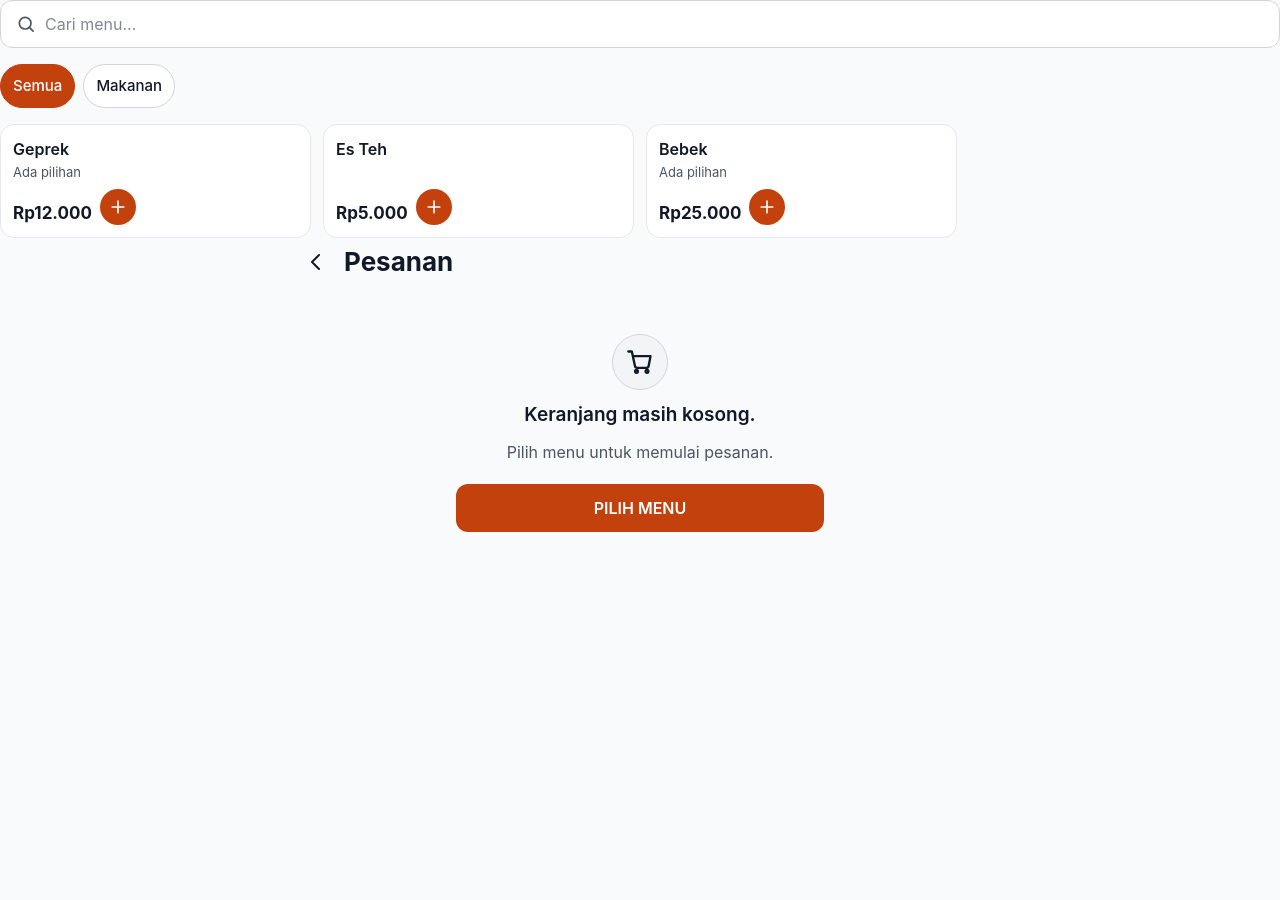
products with options on the cashier screen › keeps Tambah disabled until every required group has a choice, and says which ones
The image size is (1280, 900).
Click the button "Geprek Ada pilihan Rp12.000": [41, 149] box [0,124,311,238]
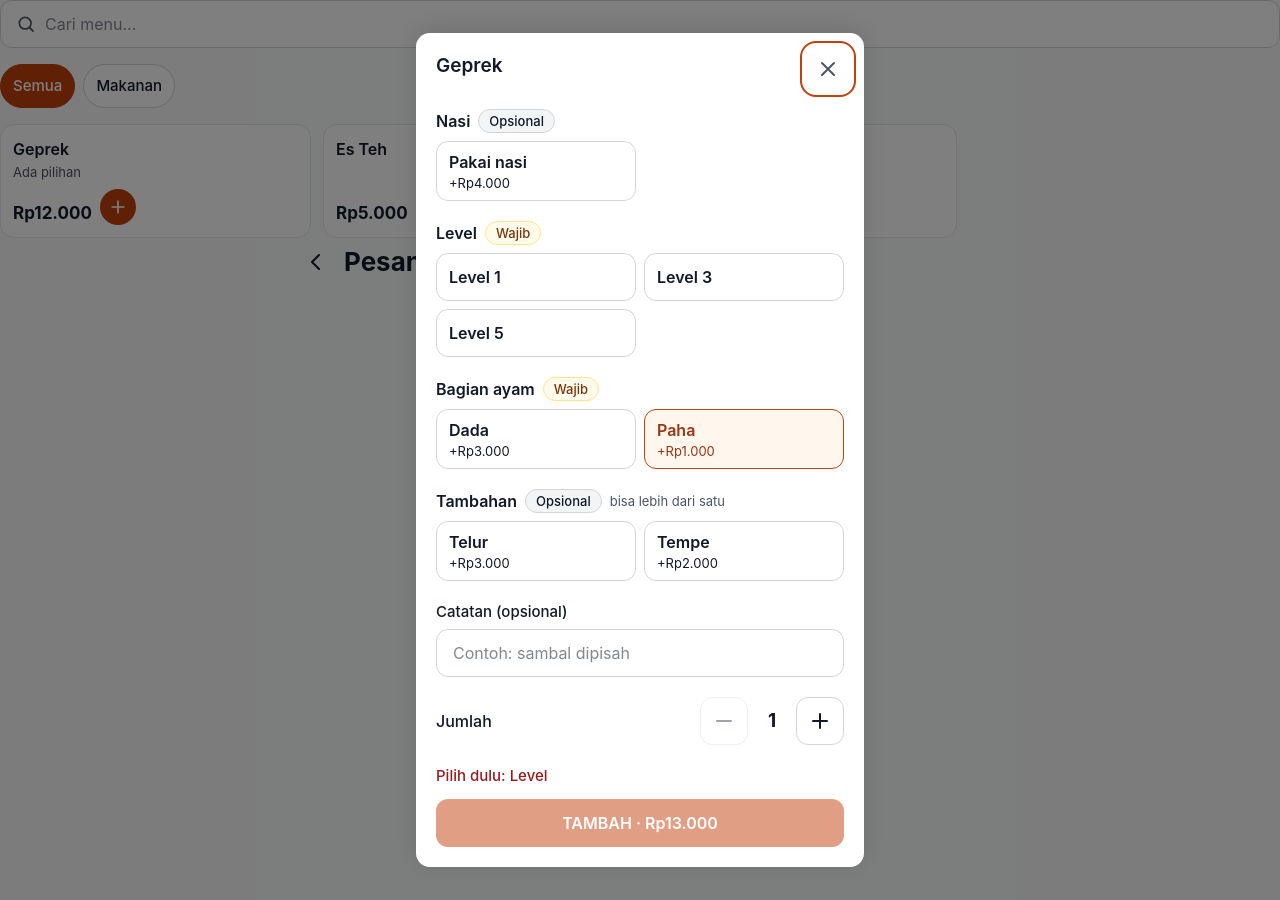
Expected: the button "TAMBAH · Rp13.000" is disabled, [436,799,844,847]
Expected: the text "Pilih dulu: Level" is shown, [436,766,548,785]
Click the button "Level 3": [744, 277] box [644,253,844,301]
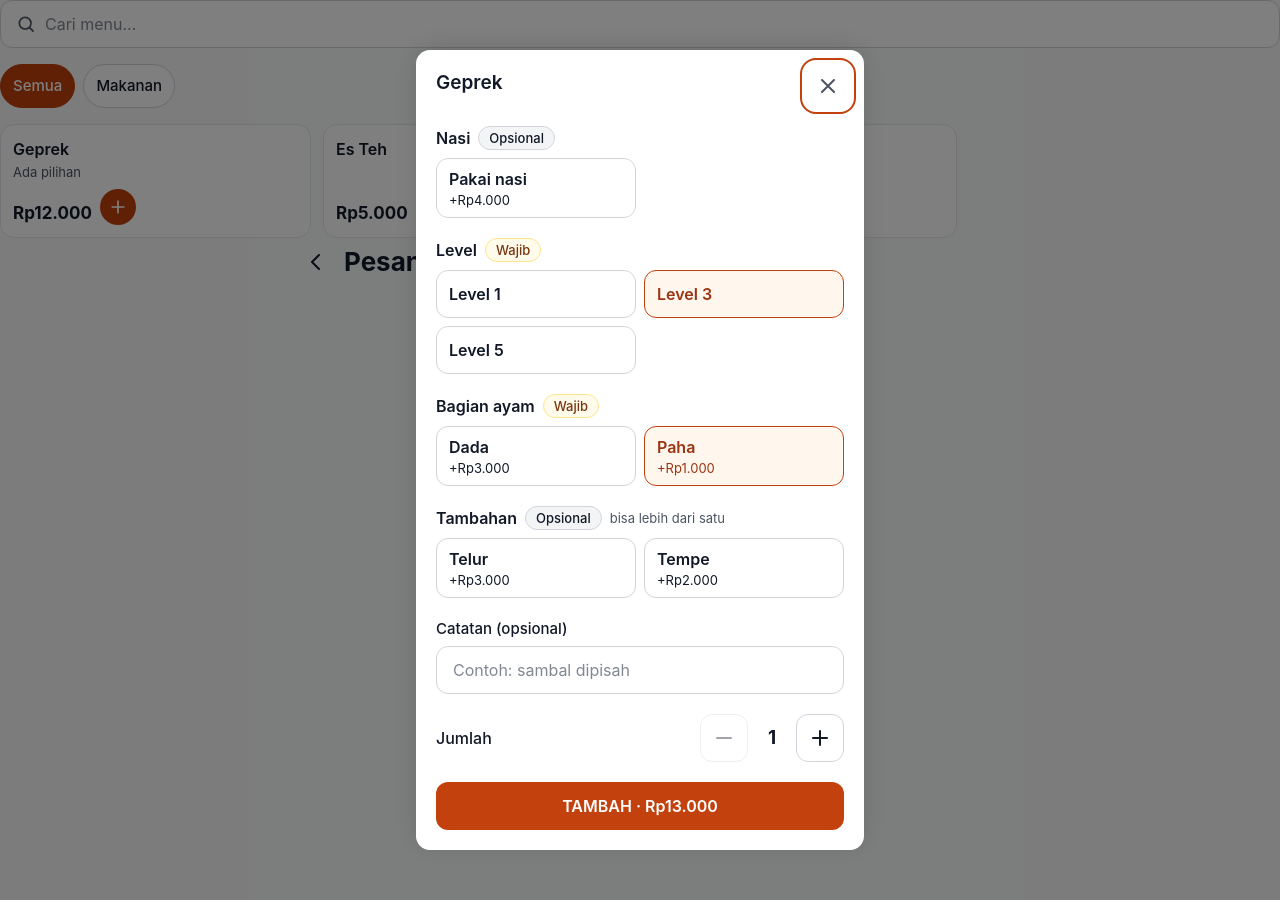
Expected: the button "TAMBAH · Rp13.000" is enabled, [436,782,844,830]
Expected: the text "Pilih dulu" is gone
